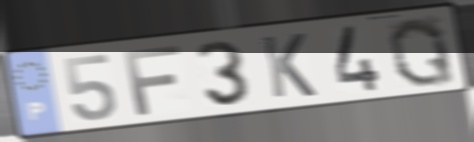3: (194, 39, 253, 108)
4: (334, 23, 382, 94)
5: (60, 51, 120, 123)
F: (120, 43, 184, 118)
K: (258, 31, 319, 101)
Q: (386, 15, 459, 89)
